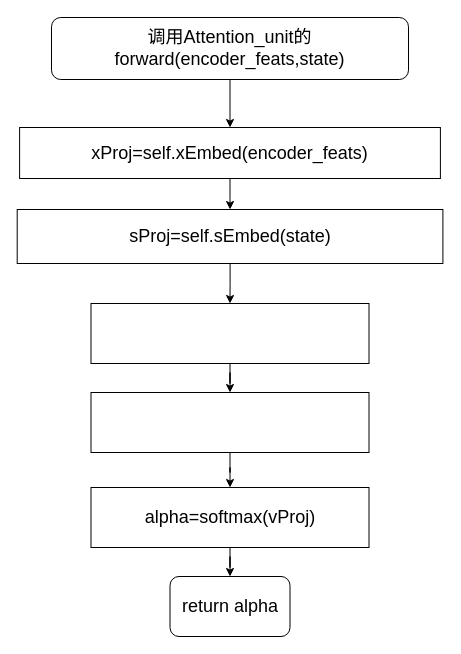
The diagram is 461 pixels wide and 654 high, and some of its shapes have lost their labels. The shapes that lost their labels are listed below. From the top down, each one's box as (x1, y1, x2, y2) in pixels, then its label:
(90, 302, 369, 364): sumTanh=torch.tanh(sProj+xProj)
(90, 392, 369, 452): vProj=self.wEmbed(sumTanh)
